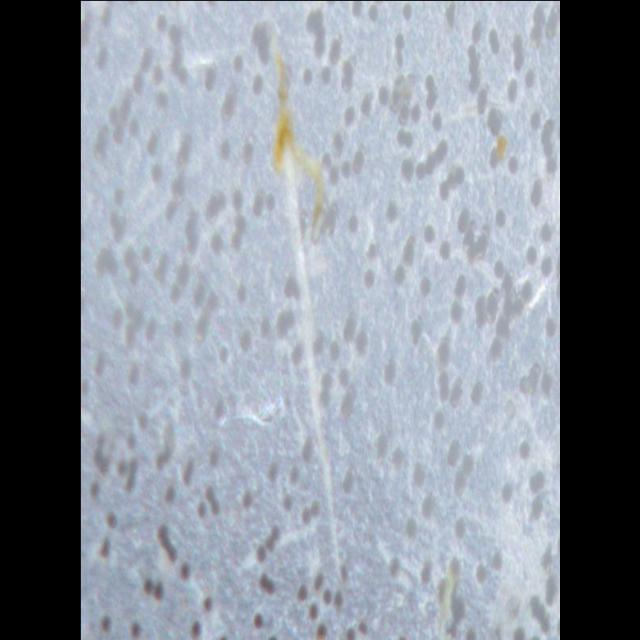Fibre: (268, 19, 348, 593)
